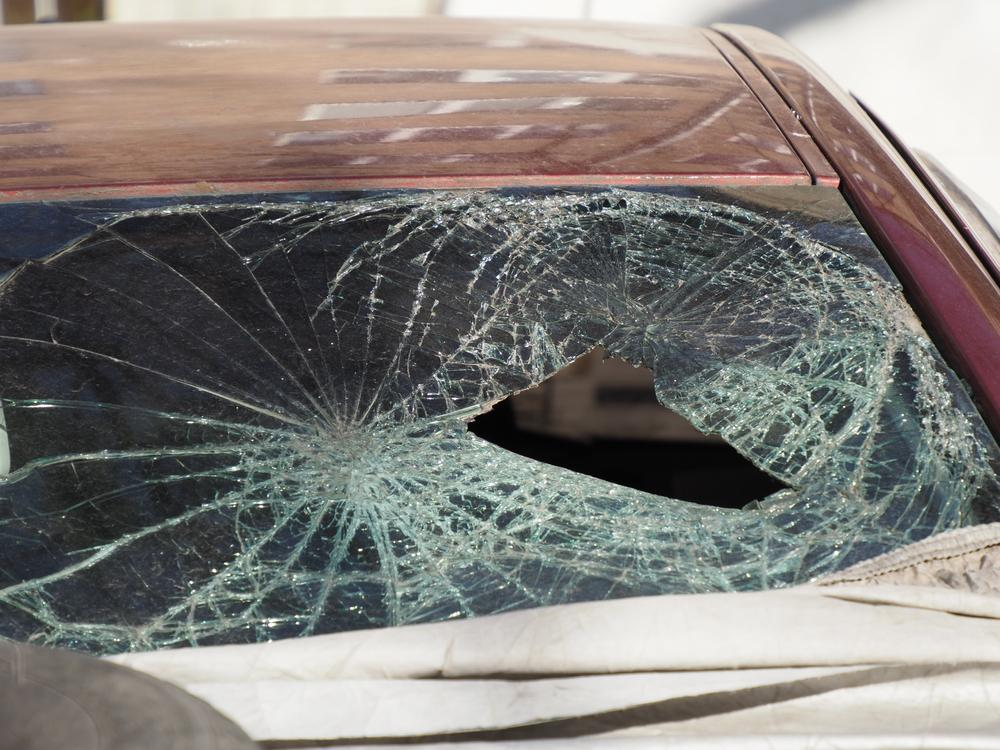glass shatter: (0, 186, 1000, 653)
